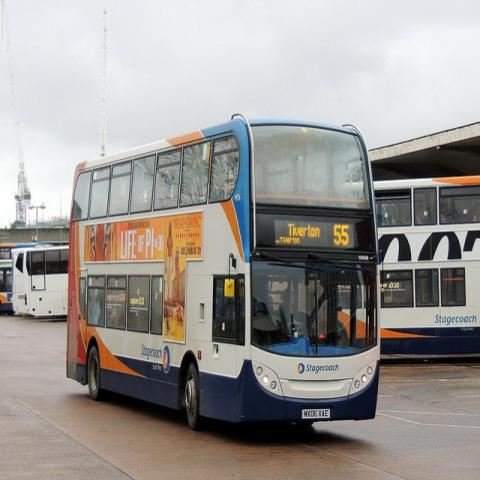bus: (68, 116, 383, 424), (373, 177, 479, 359), (12, 244, 68, 319), (0, 259, 16, 316)
